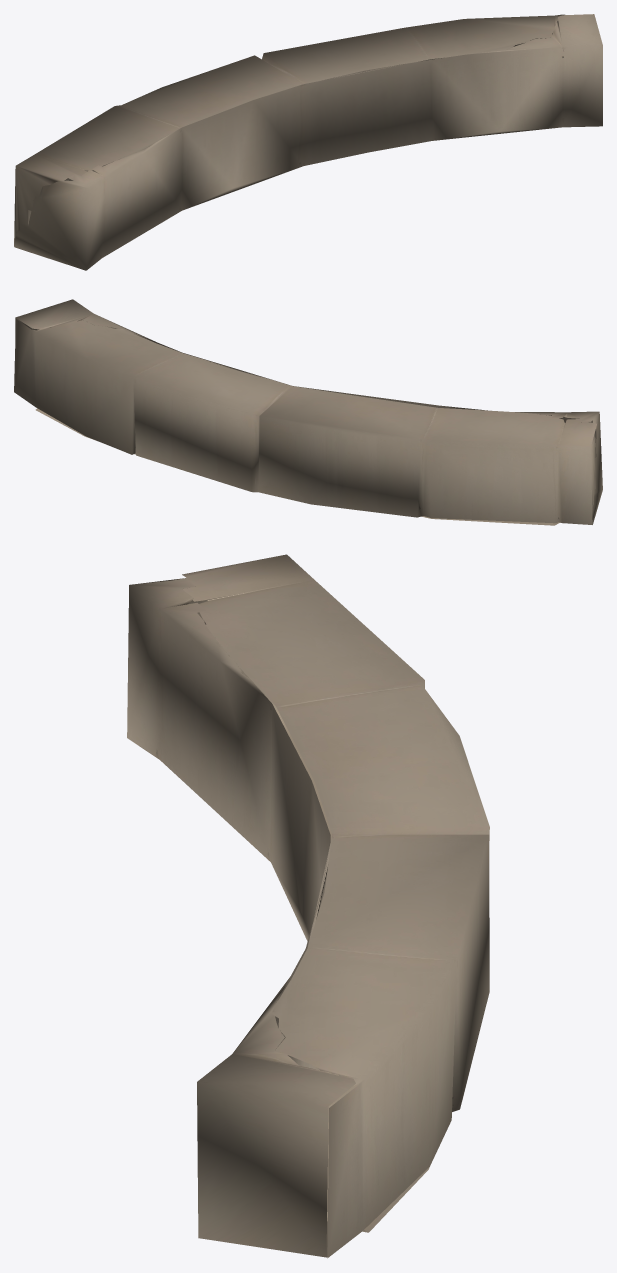
3 views of the same model, one above another, from view 1: azimuth 30°, elevation 25°; view 2: azimuth 150°, elevation 25°; view 3: azimuth 270°, elevation 25° (orthographic). The views are drawn at different scales.
Visible parts, largest first — view 1: quad; view 2: quad; view 3: quad.
Boxes of the visible parts, x1,y1,x2,y2 form: quad: (14, 14, 602, 270); quad: (14, 299, 602, 525); quad: (127, 554, 489, 1258).
Size of the model in its own units: 400 by 54.55 by 111.
1 material, 1 textured.
